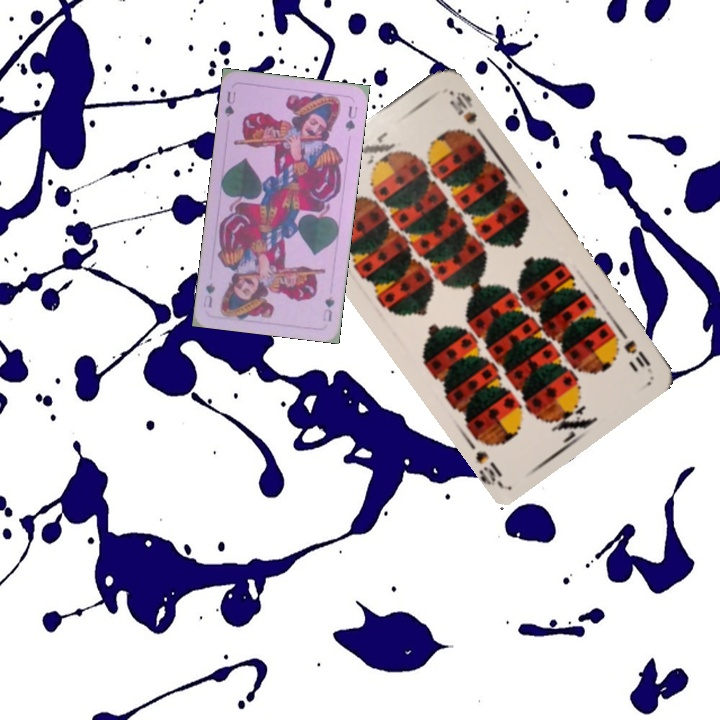GU: (319, 292, 337, 324), (221, 87, 238, 120)
S10: (612, 323, 654, 374)
